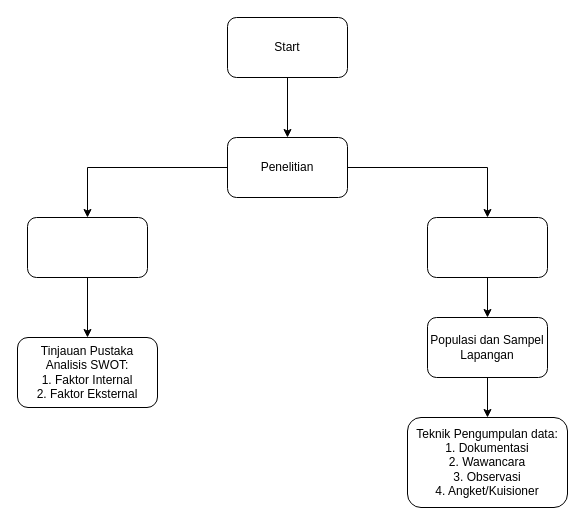
Image size: 585x525. Some labels were removed from this diagram. The shapes that lost their labels are listed below. From the top down, each one's box as (x1, y1, x2, y2) in pixels, then its label:
(26, 216, 148, 278): Penelitian Pustaka
(426, 216, 548, 278): Penelitian Lapangan
